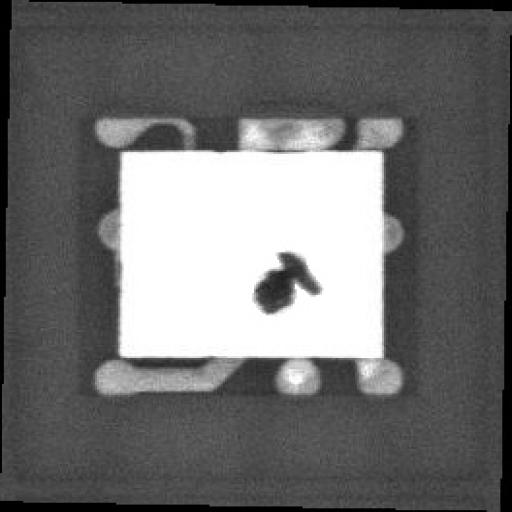DIE_INK: (239, 260, 306, 328)
